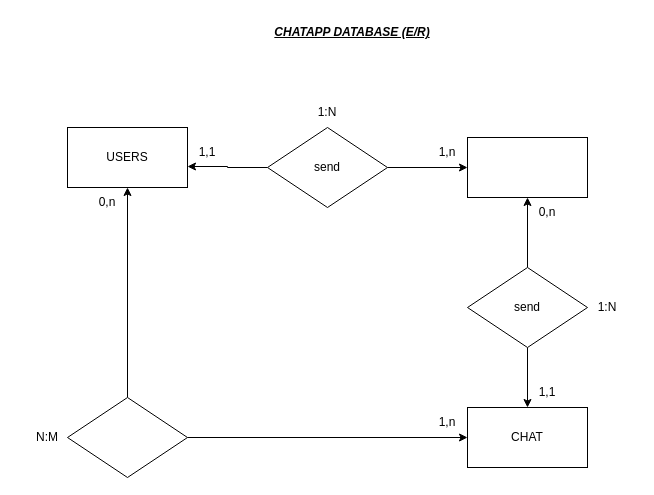
The diagram is 654 pixels wide and 495 high, and some of its shapes have lost their labels. Each missing label, with the centre of its shape:
MESSAGES: (x=527, y=167)
participate: (x=127, y=437)
